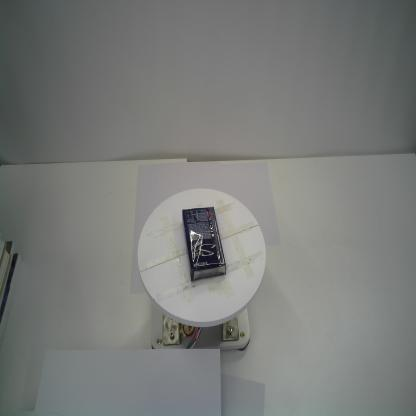Gum: (182, 206, 227, 283)
